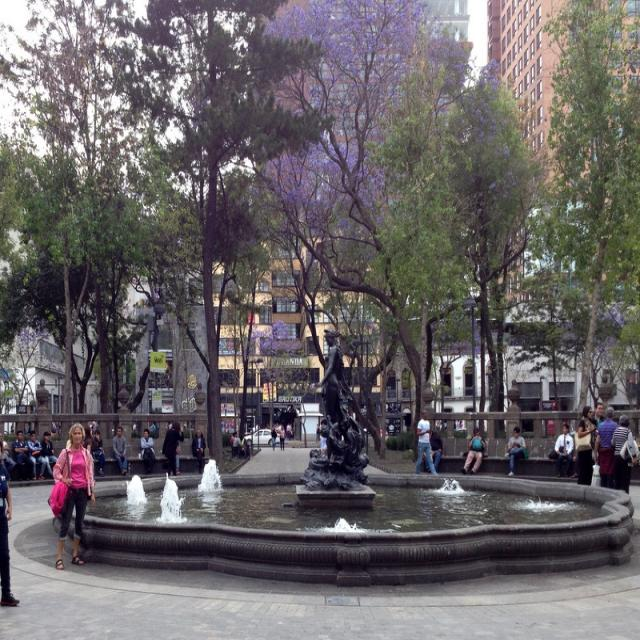body: (46, 419, 97, 571), (0, 455, 21, 606), (610, 413, 639, 495), (592, 405, 618, 490), (414, 406, 440, 478), (576, 406, 597, 486), (162, 420, 185, 477), (554, 422, 575, 479), (460, 431, 486, 476), (421, 422, 443, 475), (504, 426, 526, 479), (12, 429, 34, 481), (27, 429, 48, 482), (111, 424, 129, 476), (40, 430, 59, 477), (0, 430, 17, 482), (139, 428, 156, 477), (190, 426, 207, 474), (166, 423, 181, 477), (90, 429, 106, 478), (34, 376, 50, 415), (590, 401, 606, 429), (250, 419, 283, 431), (232, 433, 245, 460), (219, 417, 239, 432), (318, 418, 330, 442), (128, 416, 138, 442), (182, 419, 195, 438), (453, 414, 467, 431), (278, 425, 286, 452), (230, 430, 238, 456), (434, 417, 447, 433), (86, 417, 100, 431), (146, 417, 158, 433), (314, 422, 322, 445), (50, 419, 60, 436), (550, 394, 560, 410), (272, 427, 278, 448), (286, 422, 292, 441), (24, 419, 31, 434), (9, 421, 16, 436), (166, 418, 173, 430)
